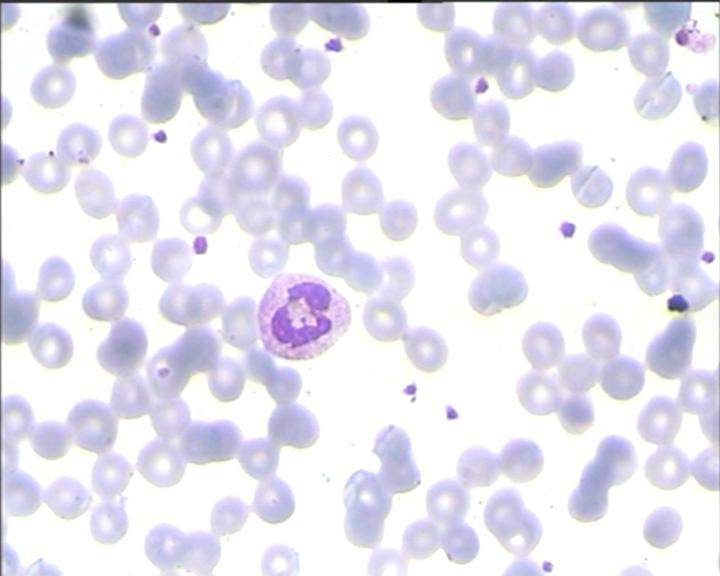neut: (256, 270, 354, 362)
